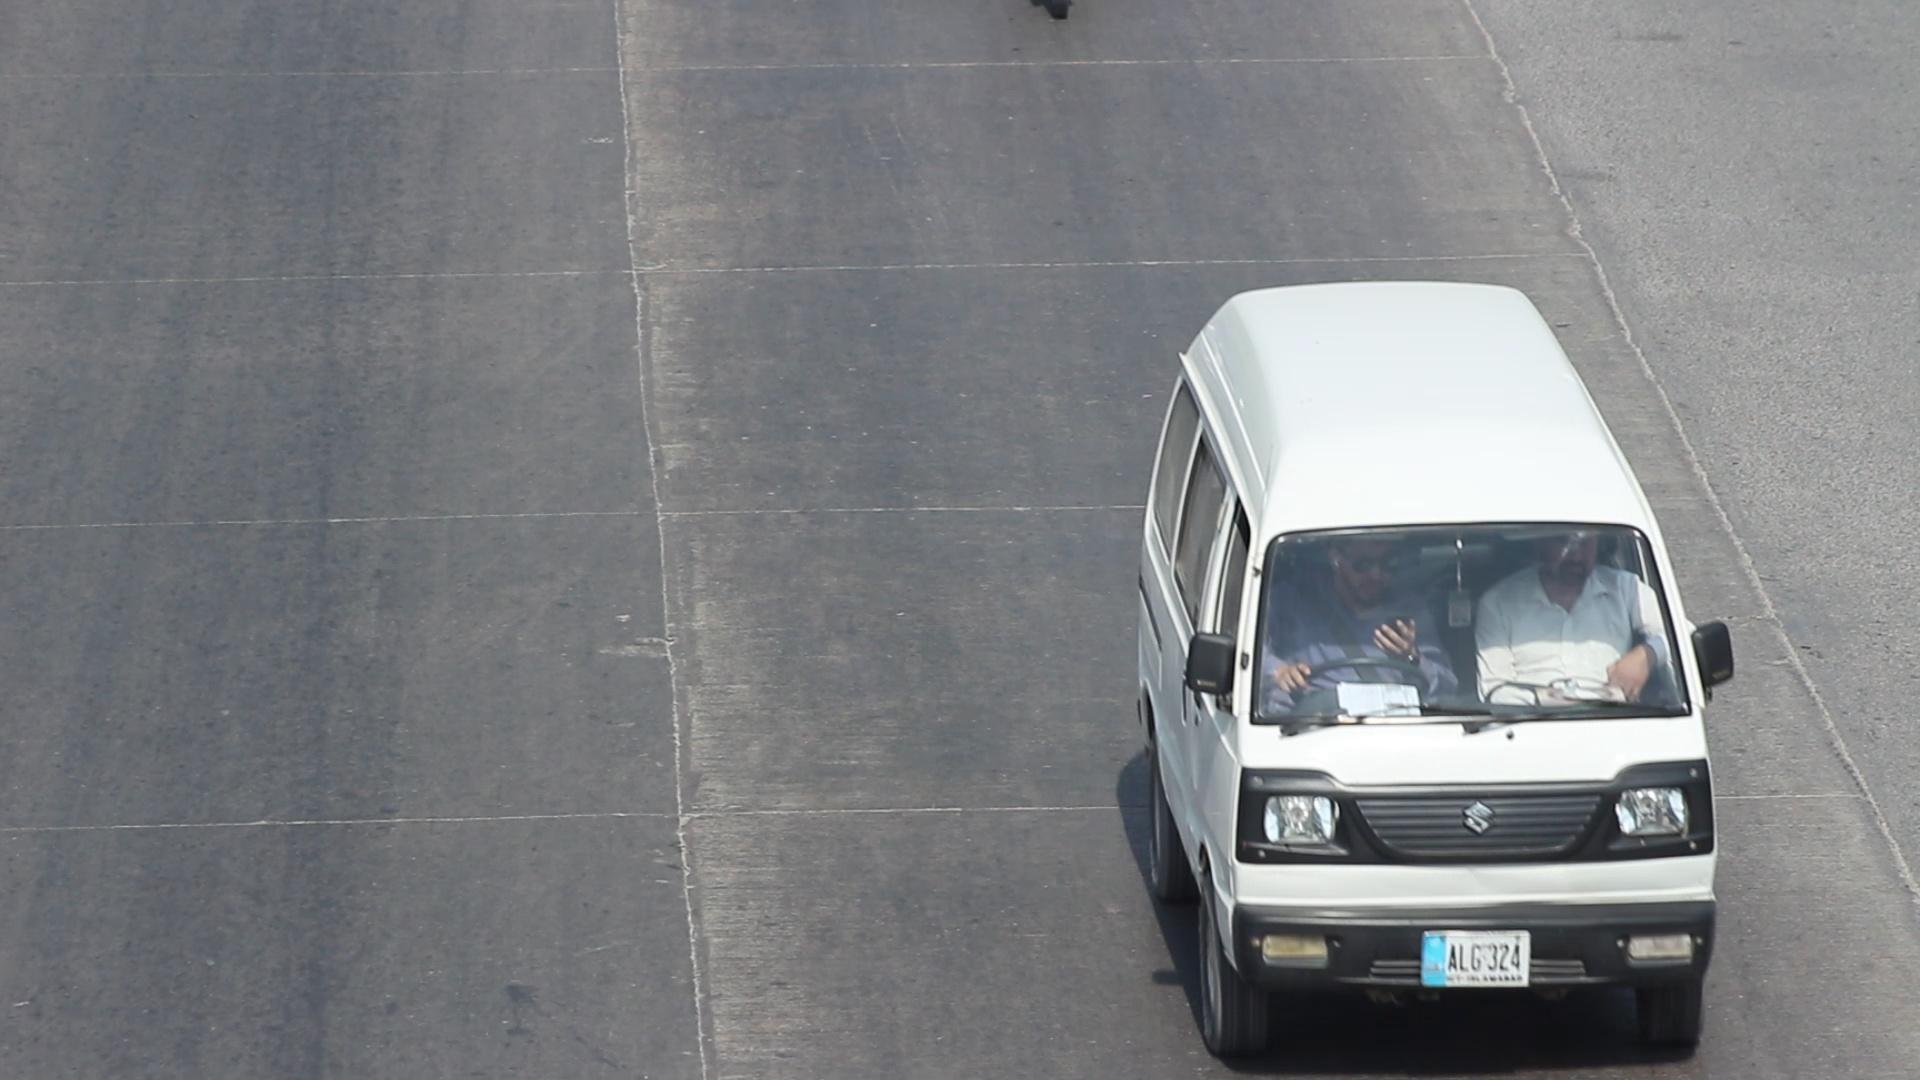windshield: (1234, 517, 1717, 740)
